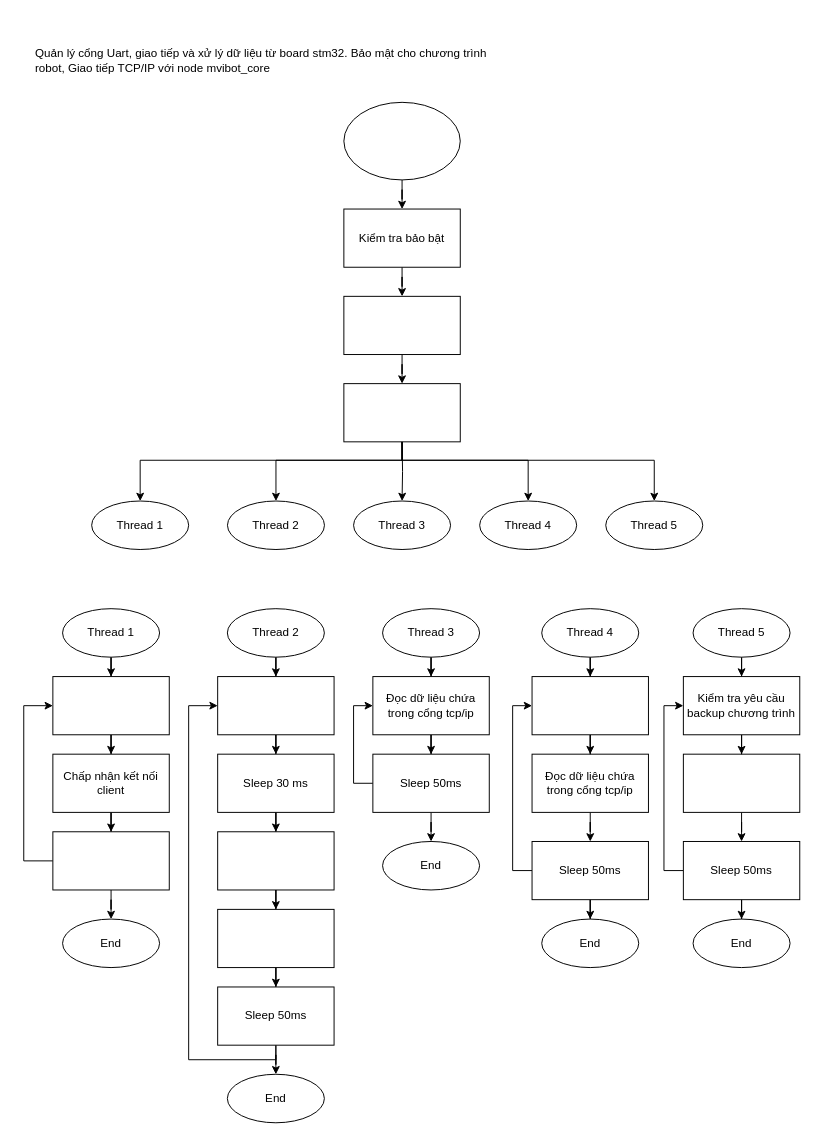
This 817x1140 diagram has some shape labels left out. The shapes that lost their labels are listed below. From the top down, each one's box as (x1, y1, x2, y2) in pixels, then its label:
(343, 101, 460, 180): Start
(343, 295, 460, 355): Gửi file dữ liệu pin qua mail
(343, 383, 460, 442): Tạo socker server
(52, 676, 169, 735): Nghe kết nối từ client
(217, 676, 334, 735): Ghi dữ liệu vào cổng uart
(531, 676, 648, 735): Kiếm tra thời gian time out của Tcp/IP
(682, 753, 800, 812): Kiểm tra bảo mật robot
(52, 831, 169, 890): Sleep 1s
(217, 831, 334, 890): Đọc dữ liệu từ cổng Uart
(217, 908, 334, 968): Đếm thời gian time out Uart
